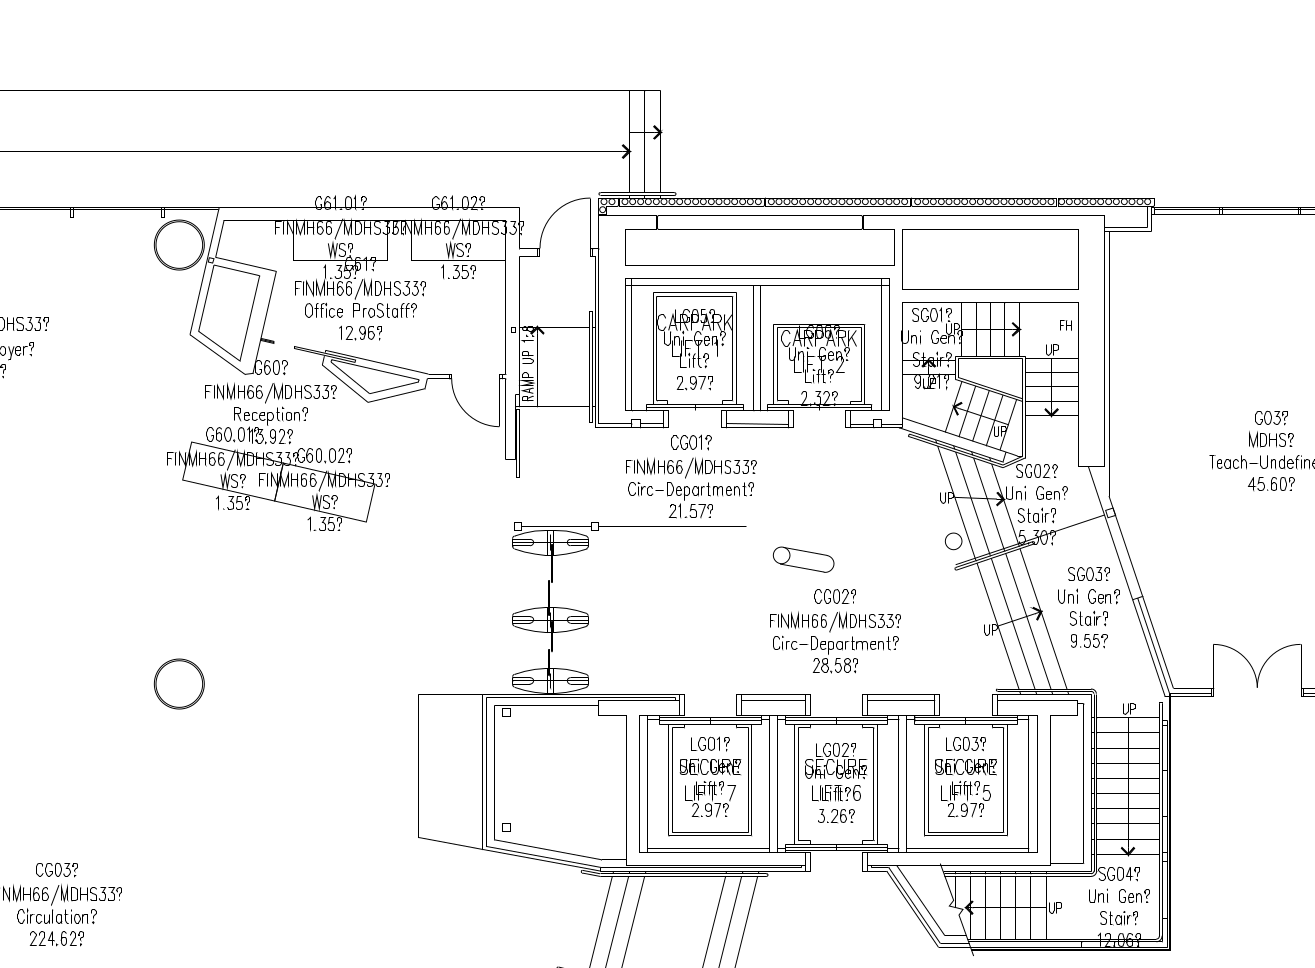door: (537, 193, 593, 260), (448, 367, 504, 434), (1211, 638, 1260, 698), (1256, 639, 1305, 699)
